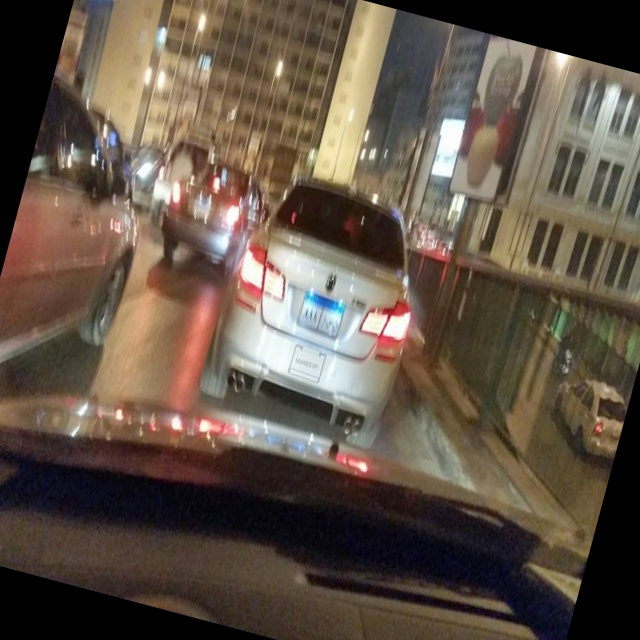License Plate: (294, 287, 349, 341)
